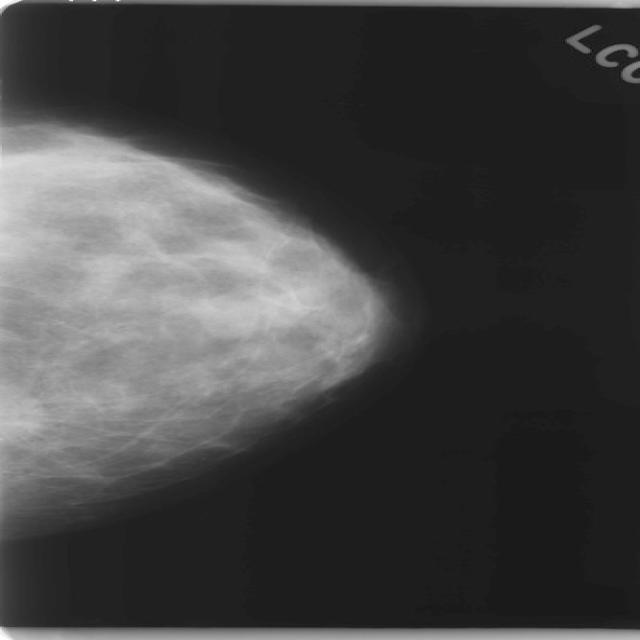tumour: (0, 388, 44, 443)
